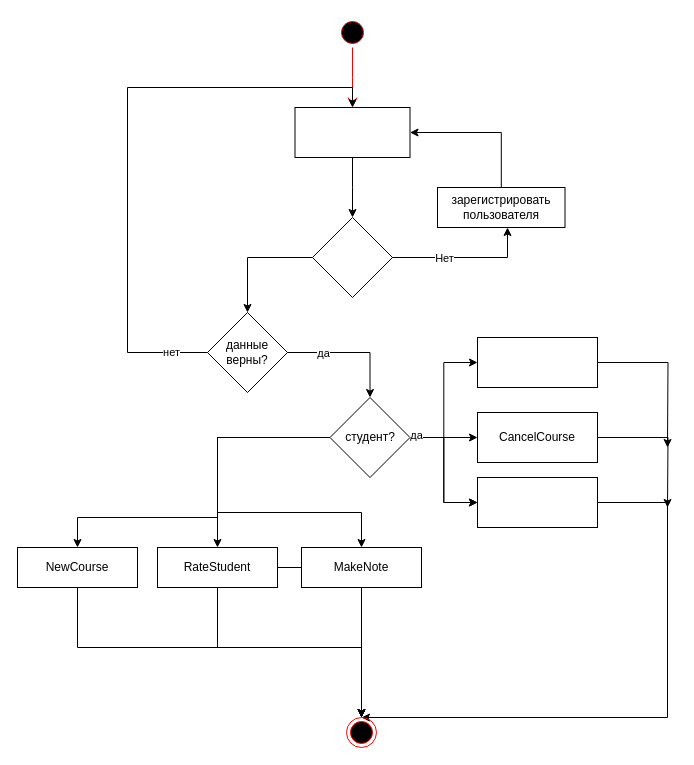
Image size: 694x765. Some labels were removed from this diagram. Each missing label, with the box of its shape:
GetCourses: (476, 476, 598, 528)
SubscribeToCourse: (476, 336, 598, 388)
вход или регистрация: (294, 106, 410, 158)
регистрация?: (312, 216, 392, 298)
